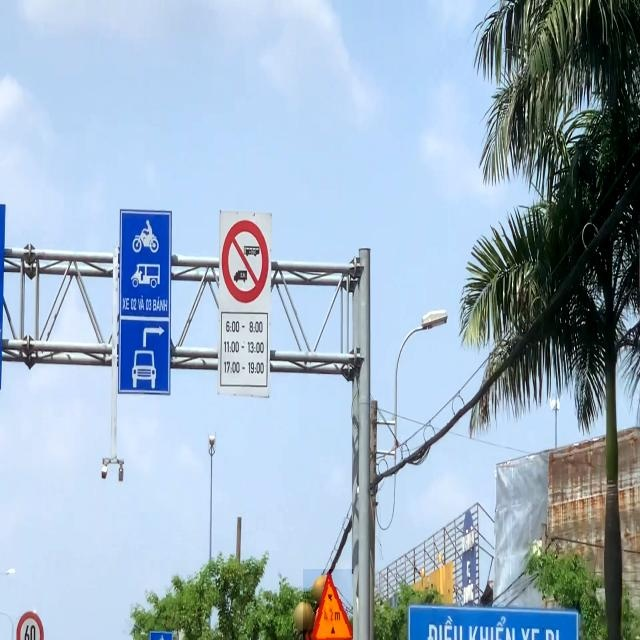bien_chi_dan: (303, 569, 353, 640)
